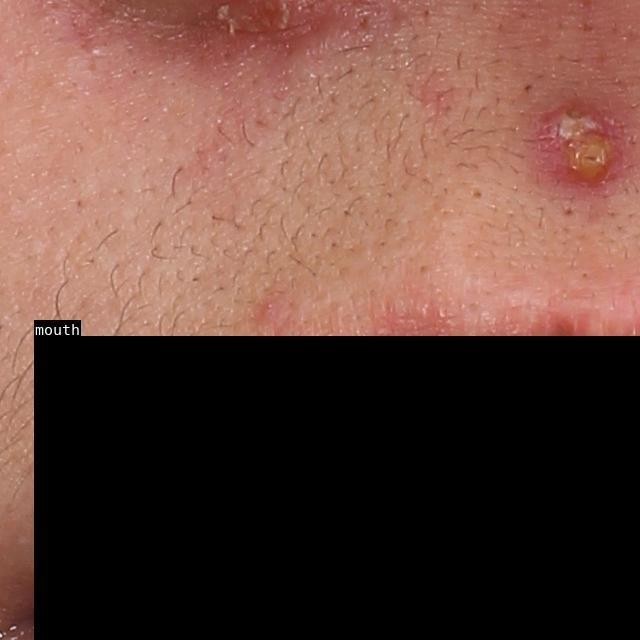comedo: (467, 186, 484, 201)
pustule: (540, 89, 628, 187)
